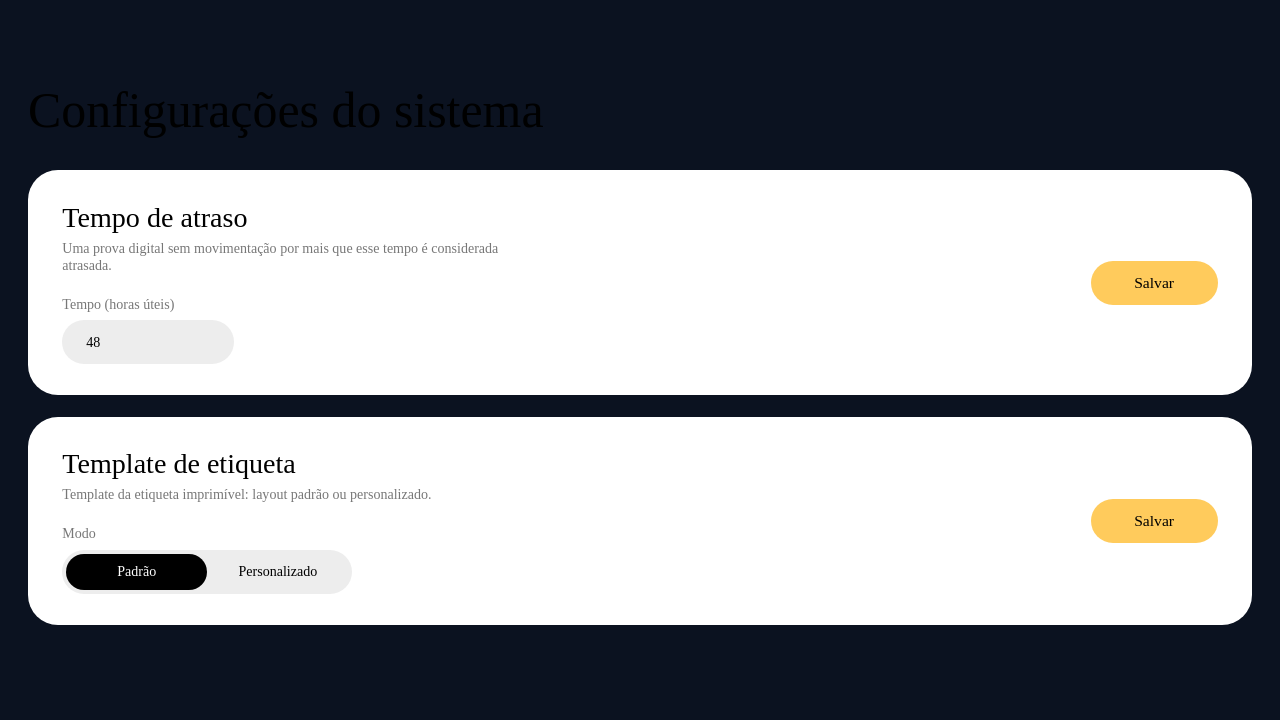
Test: ConfiguracoesView (W2-C09) › salva o tempo de atraso (US-016) e mostra toast de sucesso
Check: the element "Tempo de atraso" is shown, box [28,170,1252,395]
Replace the text in the field labelled "Tempo (horas úteis)" with "72" at (148, 342), box [62,320,234,364]
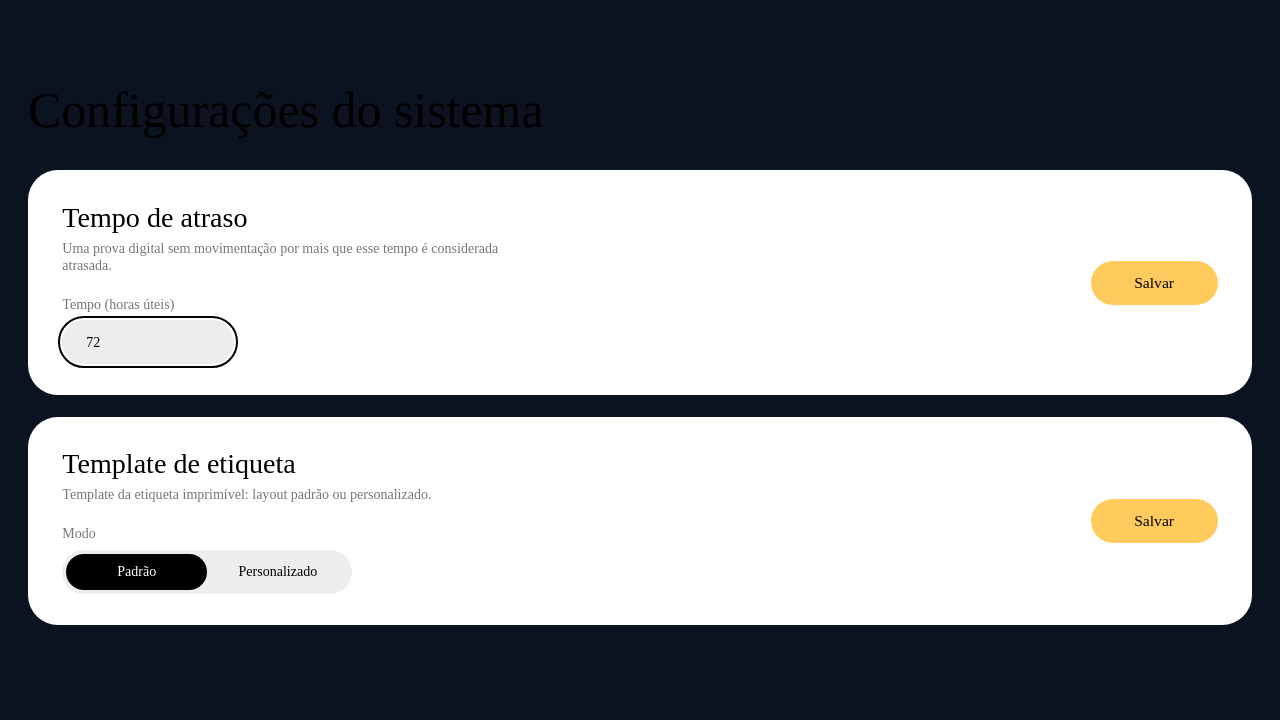
Click the button "Salvar" in the row of "Tempo (horas úteis)".
click(1154, 283)  # box [1090,261,1218,305]
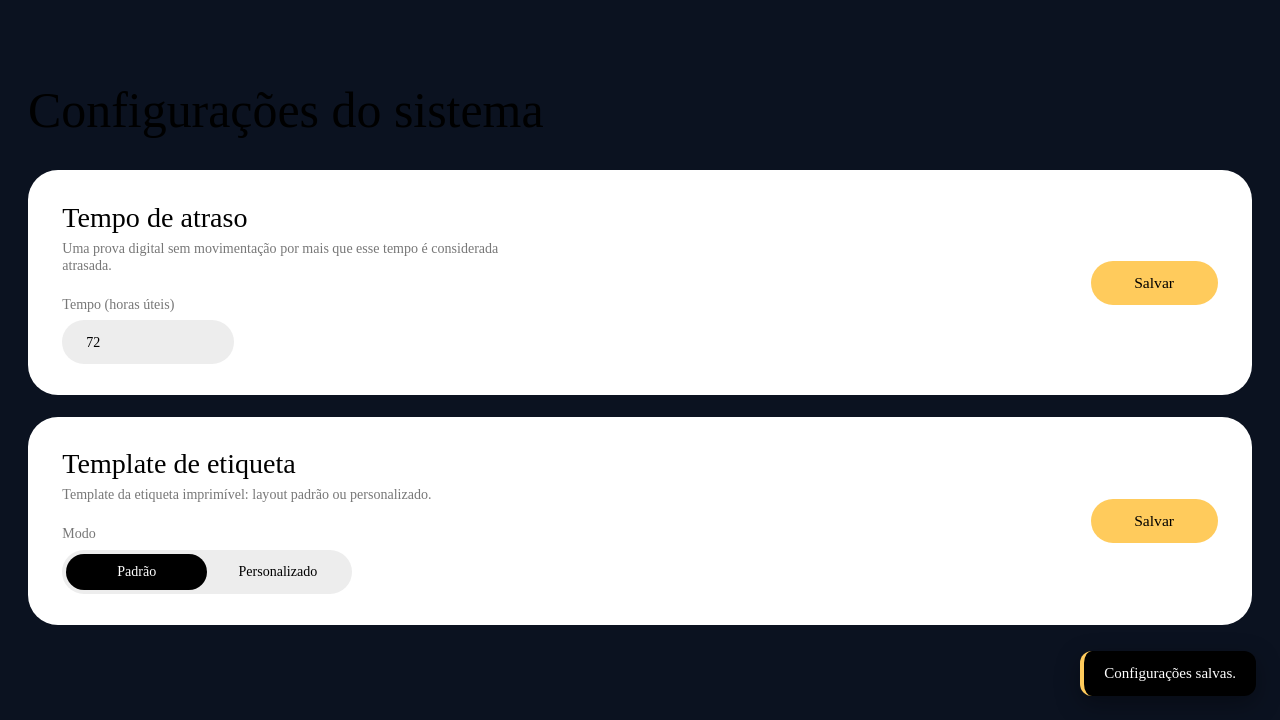
Check: the text "Configurações salvas." is shown, box [1080,651,1256,696]
